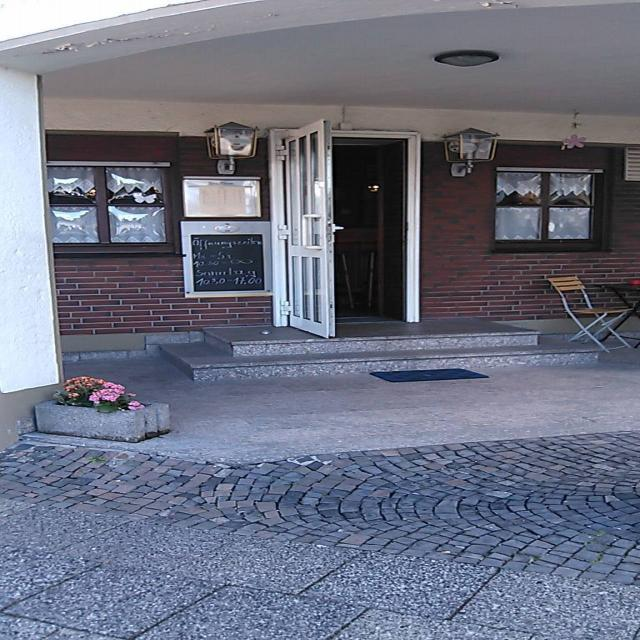AVOID: (152, 328, 606, 382)
